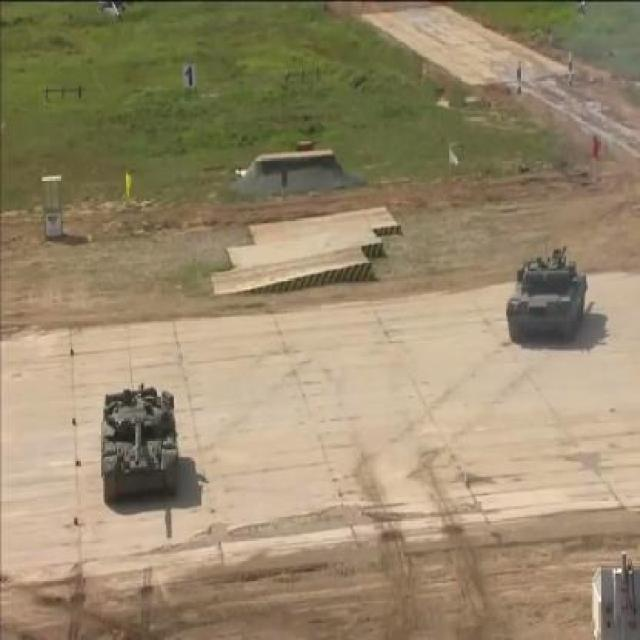Tanks: (99, 381, 179, 512), (507, 244, 587, 347)
